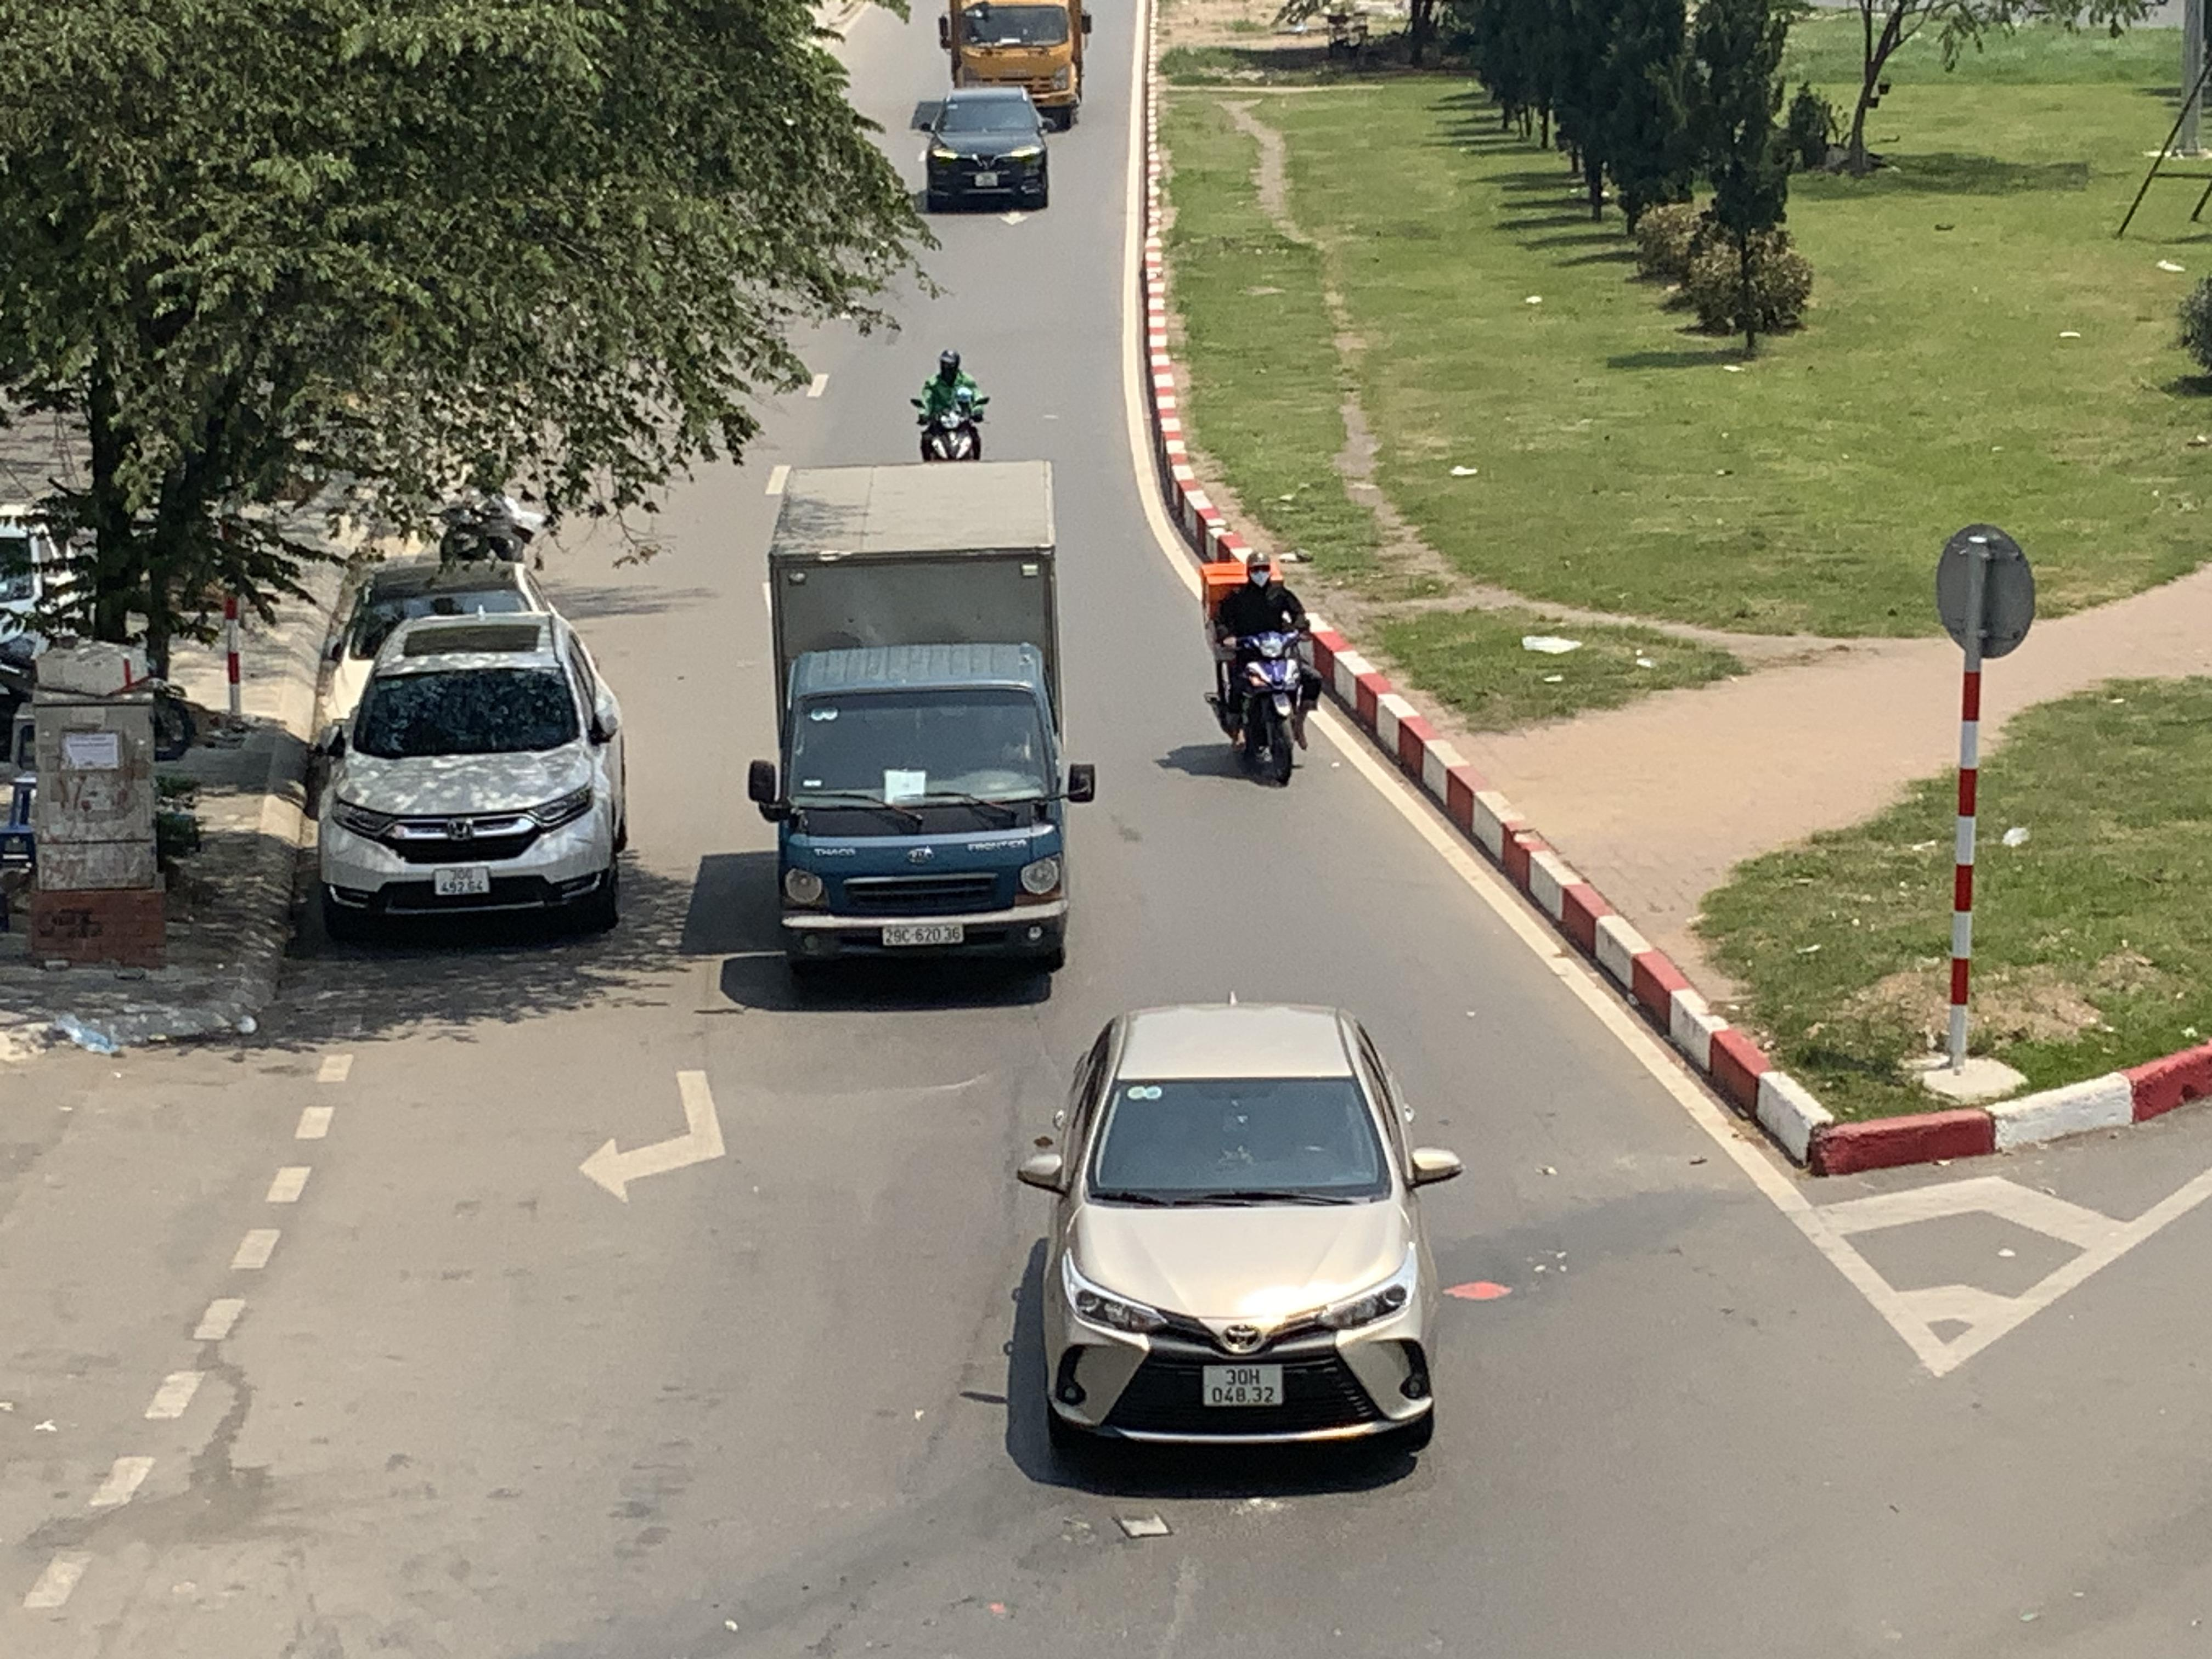BSD: (881, 922, 965, 946)
BSV: (1202, 1364, 1284, 1408), (434, 866, 491, 896), (974, 174, 998, 188)
car: (1010, 999, 1465, 1474), (310, 582, 631, 939), (911, 84, 1052, 213)
motorbike: (1207, 549, 1320, 788), (911, 345, 989, 464)
truck: (747, 458, 1097, 990), (937, 0, 1094, 127)
